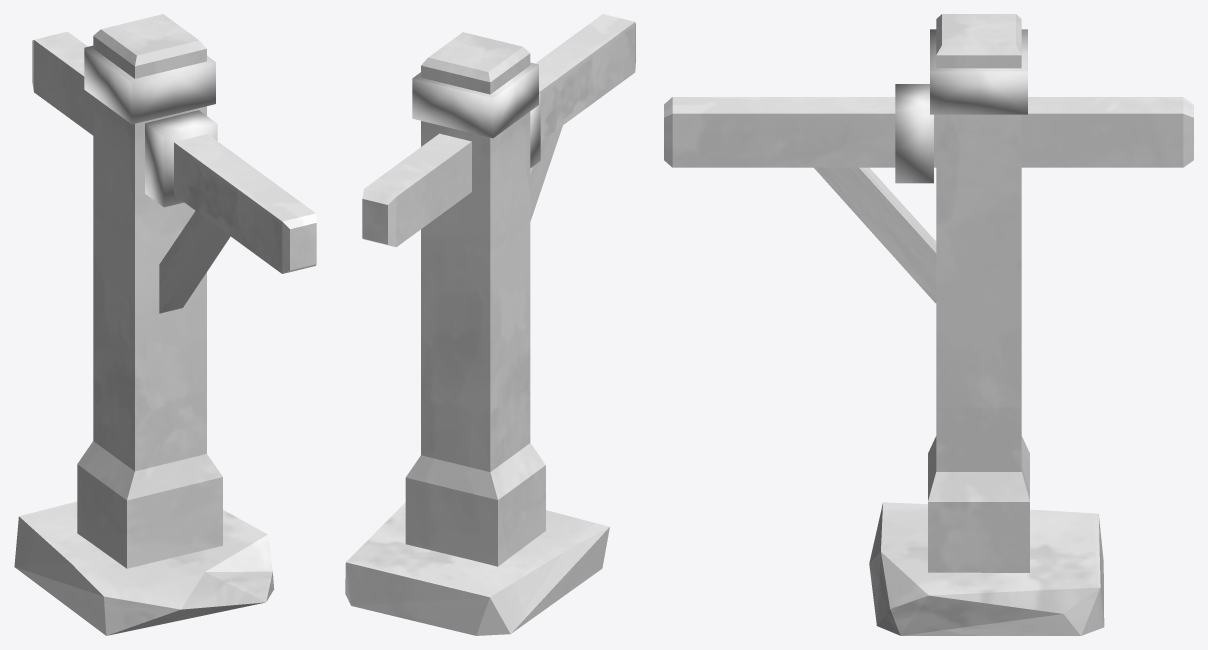
The model's file is Wooden_Pillar.fbx.
3 views of the same model, side by side, from view 1: azimuth 30°, elevation 25°; view 2: azimuth 150°, elevation 25°; view 3: azimuth 270°, elevation 25° (orthographic). The views are drawn at different scales.
Parts seen in each view (by area): view 1: Wooden_Pillar; view 2: Wooden_Pillar; view 3: Wooden_Pillar.
Boxes of the visible parts, bbox=[...] form: Wooden_Pillar: bbox=[14, 14, 316, 635]; Wooden_Pillar: bbox=[345, 14, 635, 635]; Wooden_Pillar: bbox=[664, 14, 1193, 635].
Size of the model in its own units: 2.08 by 5.84 by 4.98.
